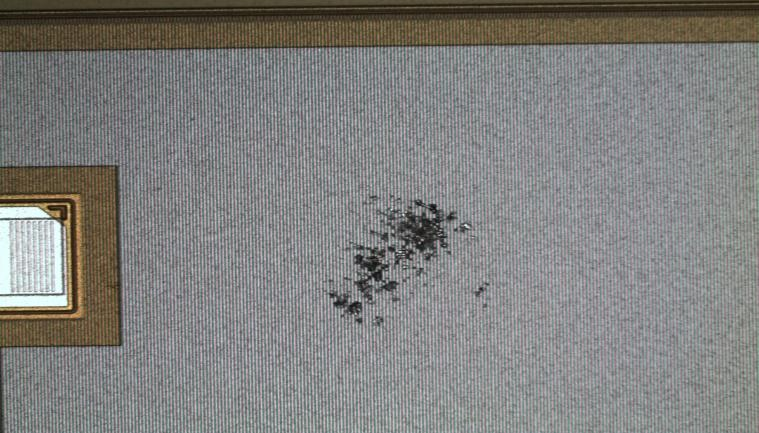SCRATCH: (315, 177, 502, 336)
